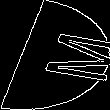M_W: (7, 26, 103, 84)
